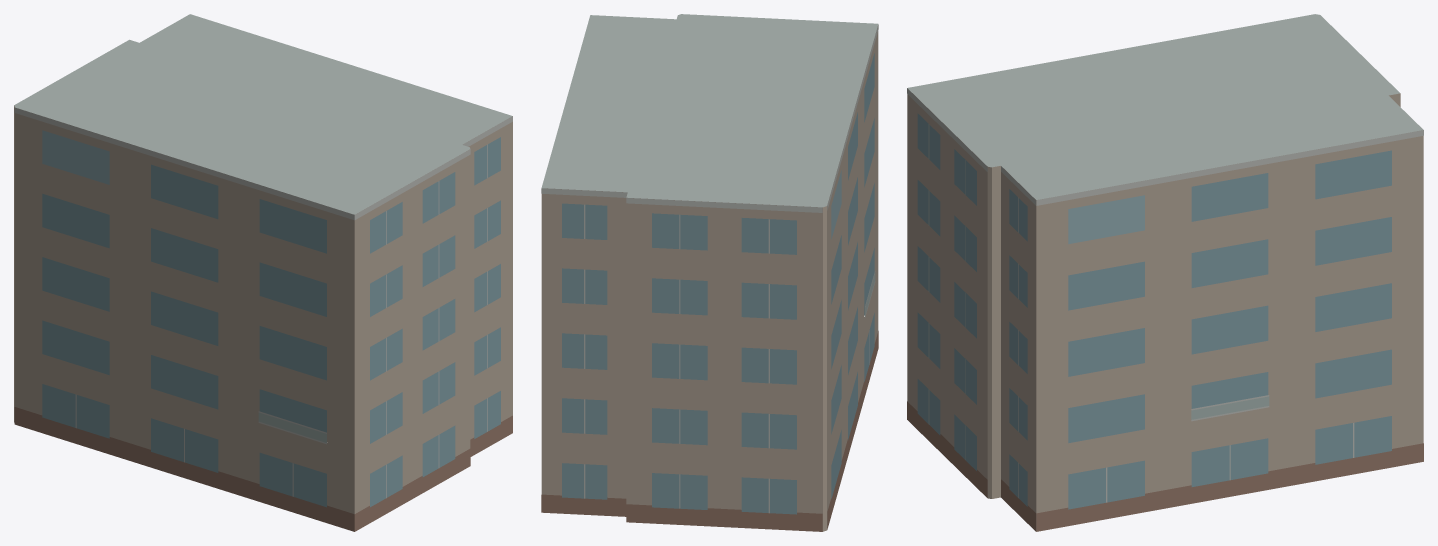
The model's file is survey-upis-32750880.glb.
3 views of the same model, side by side, from view 1: azimuth 30°, elevation 25°; view 2: azimuth 150°, elevation 25°; view 3: azimuth 270°, elevation 25° (orthographic). The views are drawn at different scales.
Visible parts, largest first — view 1: survey-upis-32750880.tmp; view 2: survey-upis-32750880.tmp; view 3: survey-upis-32750880.tmp.
Boxes of the visible parts, x1,y1,x2,y2 form: survey-upis-32750880.tmp: [14, 14, 512, 531]; survey-upis-32750880.tmp: [541, 14, 878, 531]; survey-upis-32750880.tmp: [907, 14, 1423, 531].
Bounding box in the file's own units: 16.86 × 14 × 19.77.
